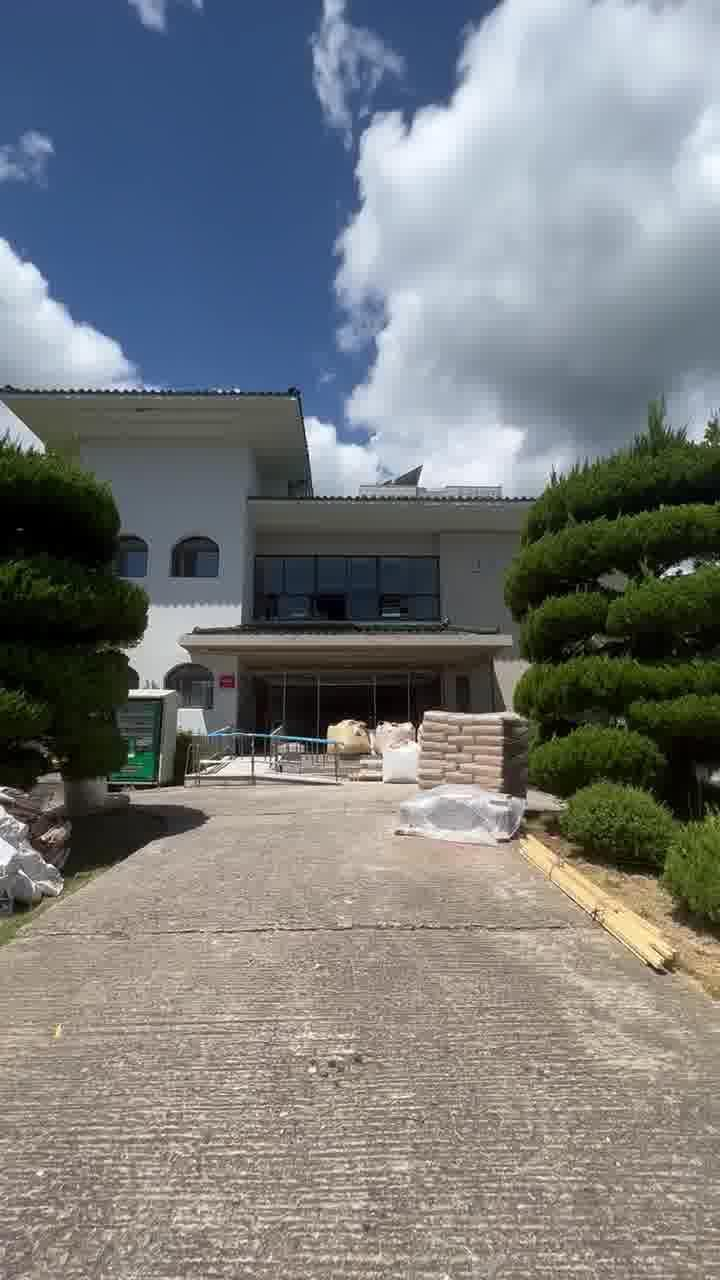building: (94, 378, 510, 698)
